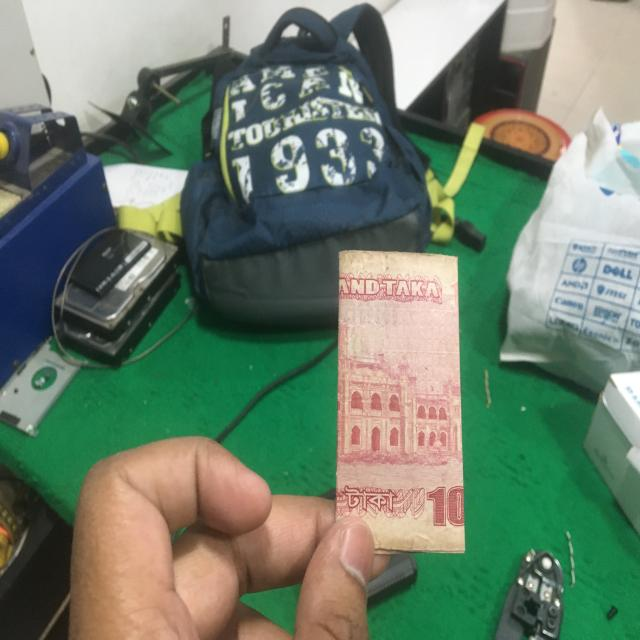Taka: (338, 250, 469, 556)
